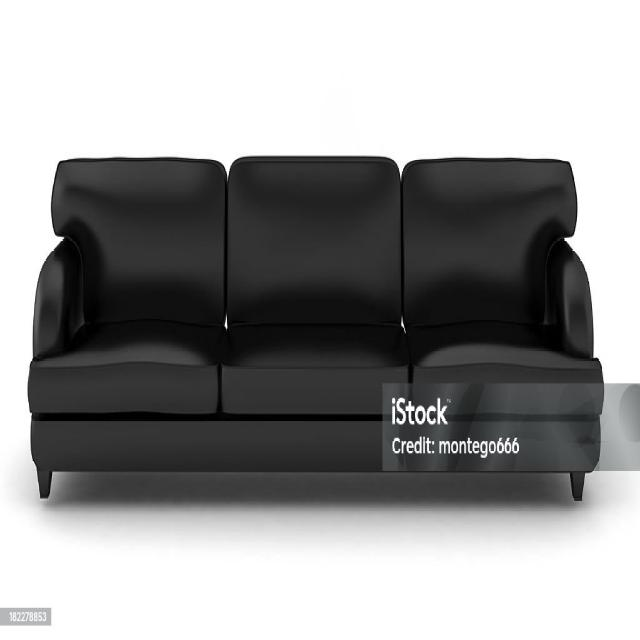back_cushion: (52, 157, 576, 324)
base: (31, 413, 604, 497)
left_arm: (546, 240, 592, 357)
legs: (570, 472, 584, 499), (38, 468, 51, 497)
right_arm: (34, 239, 82, 357)
seat_cushion: (28, 321, 602, 422)
stallion-sofa: (28, 156, 606, 498)
